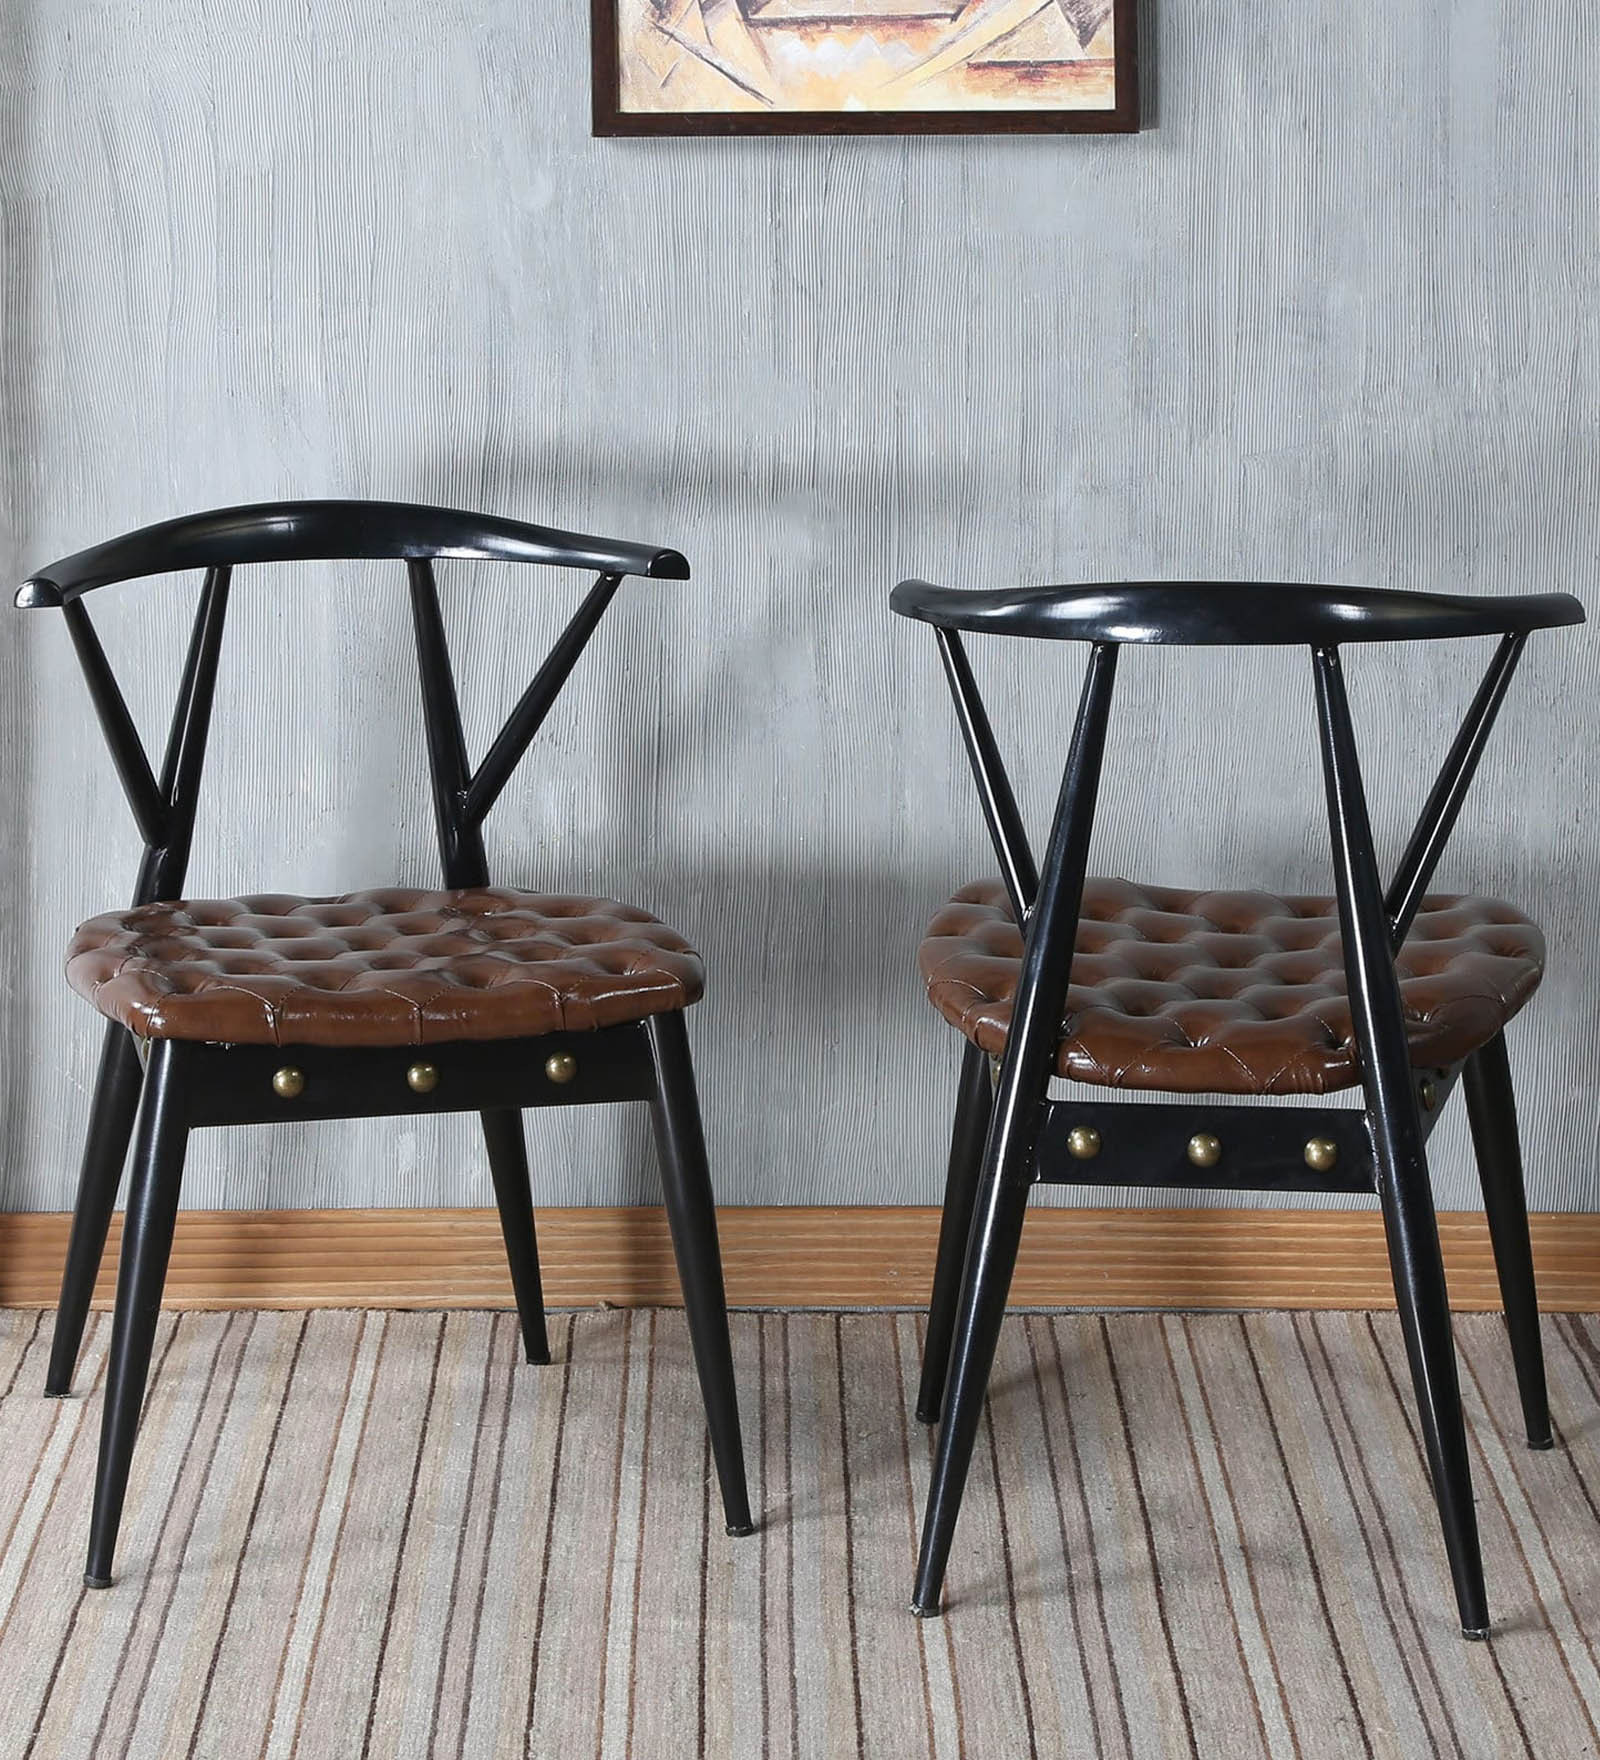Negus Metal Chair (Set of 2) in Black Colour by Bohemiana: (21, 491, 775, 1596), (875, 560, 1598, 1627)
